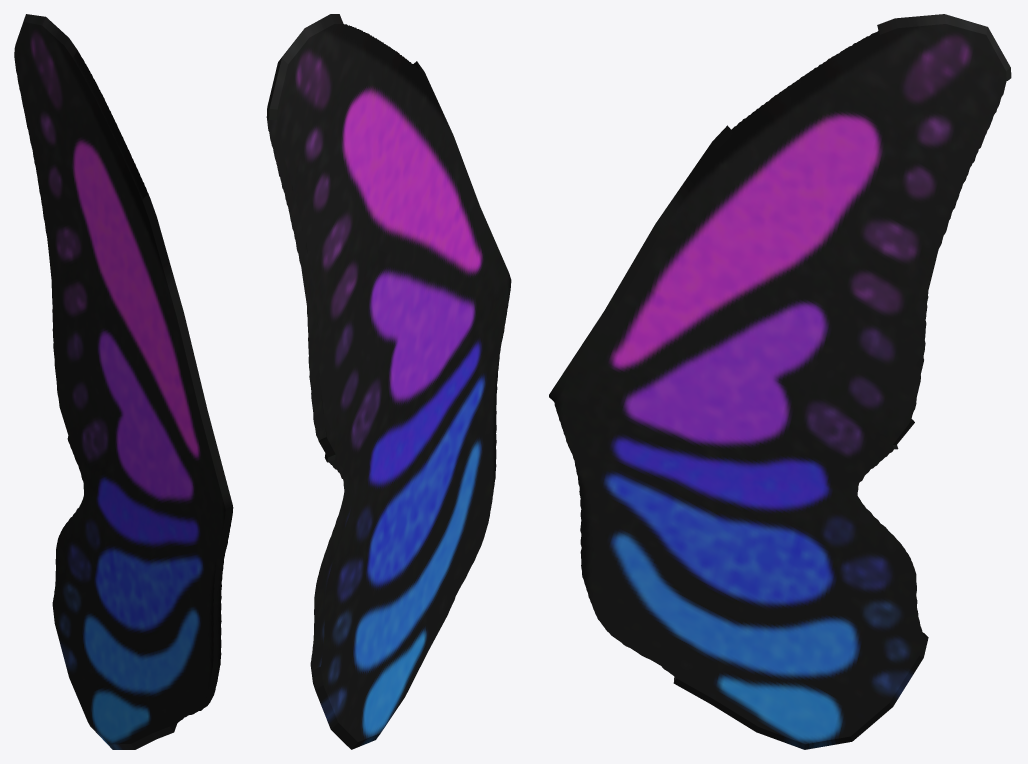
Rendered from Butterfly.fbx.
3 renders of one model, left to right at view 1: azimuth 30°, elevation 25°; view 2: azimuth 150°, elevation 25°; view 3: azimuth 270°, elevation 25°, orthographic. The views are drawn at different scales.
Parts seen in each view (by area): view 1: Butterfly; view 2: Butterfly; view 3: Butterfly.
Boxes of the visible parts, x1,y1,x2,y2 form: Butterfly: [14, 14, 233, 749]; Butterfly: [266, 14, 511, 749]; Butterfly: [549, 14, 1011, 749].
Bounding box in the file's own units: 0.016 × 0.9843 × 0.5722.
